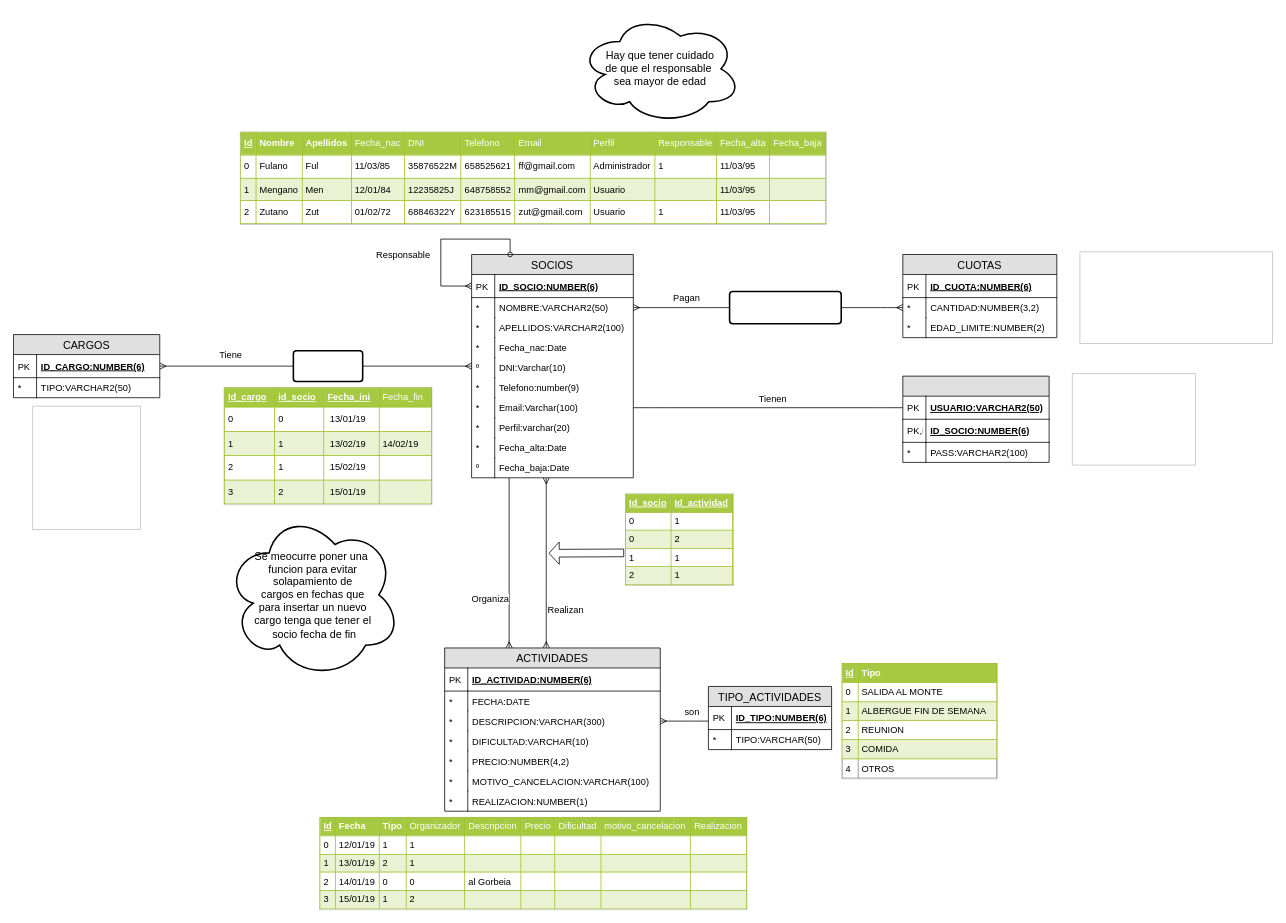
Image size: 1286x923. Some labels were removed from this diagram. The box of each missing label's shape, as (x1, y1, x2, y2) in pixels:
FECHA_INI FECHA_FIN: (292, 350, 363, 382)
FECHA_PAGO:DATE PAGADO:NUMBER(1): (728, 290, 842, 324)
Id Tipo 0 Presiedente 1 Vicepresidente 2 Secretario 3 Tesorero 4 Vocal: (32, 405, 141, 529)
id_cuota cantidad edad 0 20 7 1 20 9 2 50 35: (1079, 251, 1272, 343)
id_socio pass user 0 abcde cocoloco 1 1234 patata 2 admin luna: (1071, 373, 1195, 465)
LOGIN: (902, 375, 1049, 462)
